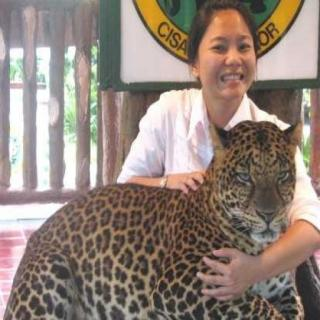Leopard: (35, 105, 320, 320)
